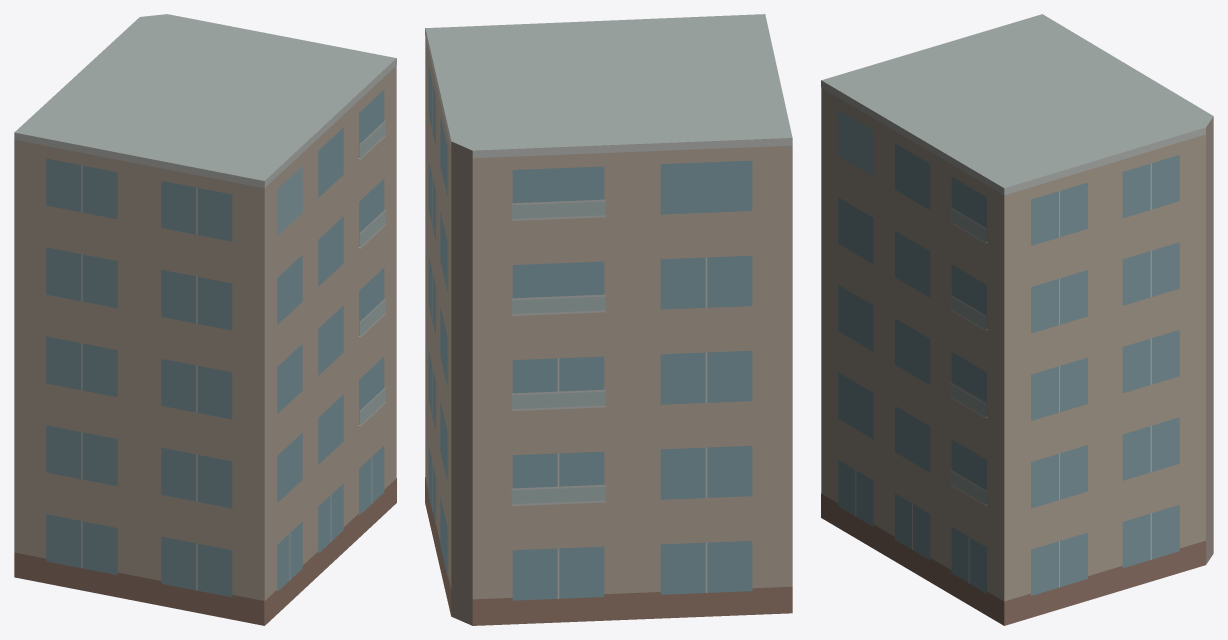
File: survey-upis-32527032.glb
3 renders of one model, left to right at view 1: azimuth 30°, elevation 25°; view 2: azimuth 150°, elevation 25°; view 3: azimuth 270°, elevation 25°, orthographic. The views are drawn at different scales.
Visible parts, largest first — view 1: survey-upis-32527032.tmp; view 2: survey-upis-32527032.tmp; view 3: survey-upis-32527032.tmp.
Boxes of the visible parts, bbox=[...] form: survey-upis-32527032.tmp: bbox=[14, 14, 396, 625]; survey-upis-32527032.tmp: bbox=[425, 14, 792, 625]; survey-upis-32527032.tmp: bbox=[821, 14, 1213, 625].
Size of the model in its own units: 12.91 by 15.1 by 12.28.
